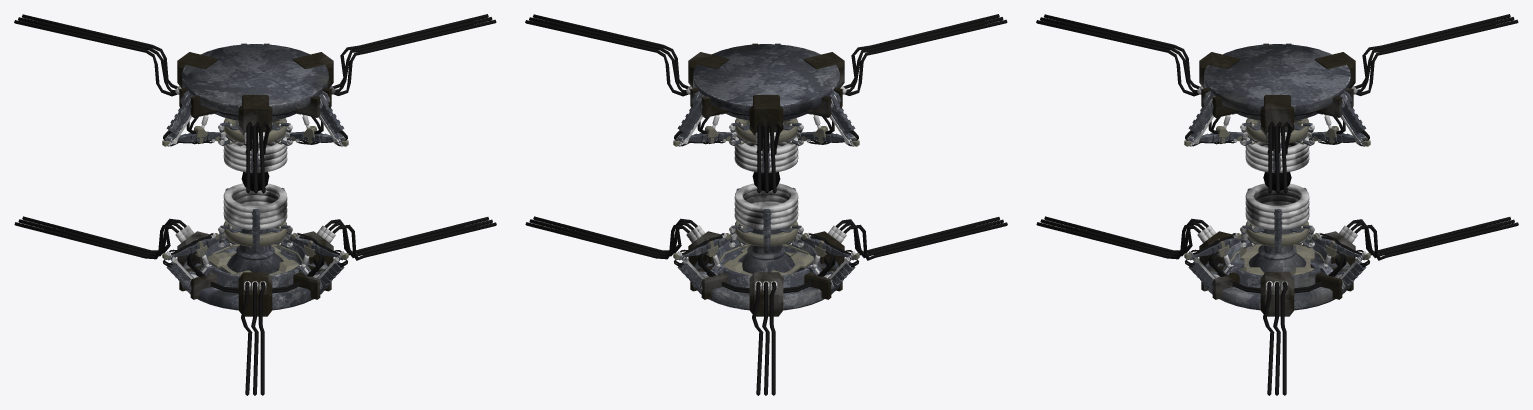
Rendered from reactor-core.glb.
The picture shows the model from 3 angles, left to right: view 1: azimuth 30°, elevation 25°; view 2: azimuth 150°, elevation 25°; view 3: azimuth 270°, elevation 25°; orthographic projection.
Visible parts, largest first — view 1: Icosphere.000 (×5); view 2: Icosphere.000 (×5); view 3: Icosphere.000 (×5).
Boxes of the visible parts, bbox=[...] form: Icosphere.000 (×5): bbox=[14, 14, 496, 395]; Icosphere.000 (×5): bbox=[525, 14, 1007, 395]; Icosphere.000 (×5): bbox=[1036, 14, 1518, 395].
Size of the model in its own units: 1.73 by 0.9525 by 2.
6 materials, 4 textured.
